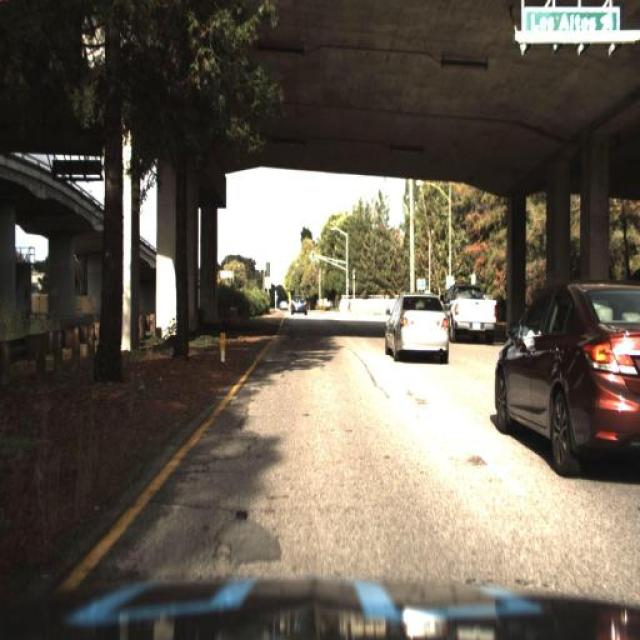car: (489, 278, 638, 490), (384, 290, 460, 369), (444, 284, 495, 340), (288, 293, 308, 318)
